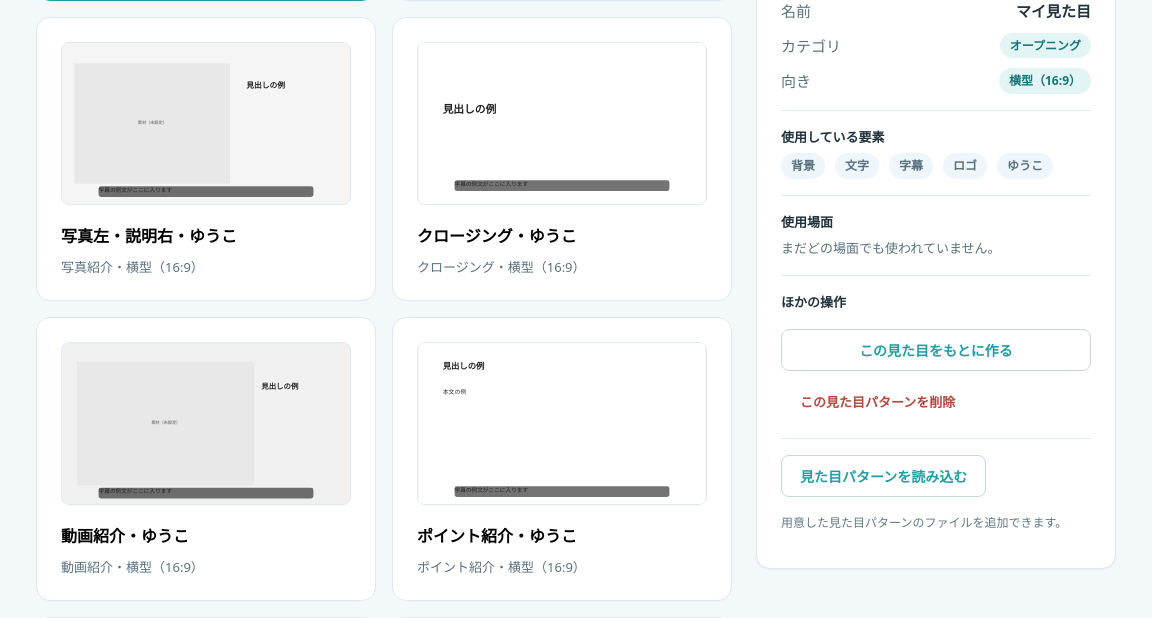
it: LooksScreen busy 表示（#410 sub4 レビュー） › もとに作っている間は「作成中…」＋ボタン無効（連打不可）
This screenshot has width=1152, height=618.
(page scrolled)
Click the button "この見た目をもとに作る": (936, 350) 781,329 -> 1091,371
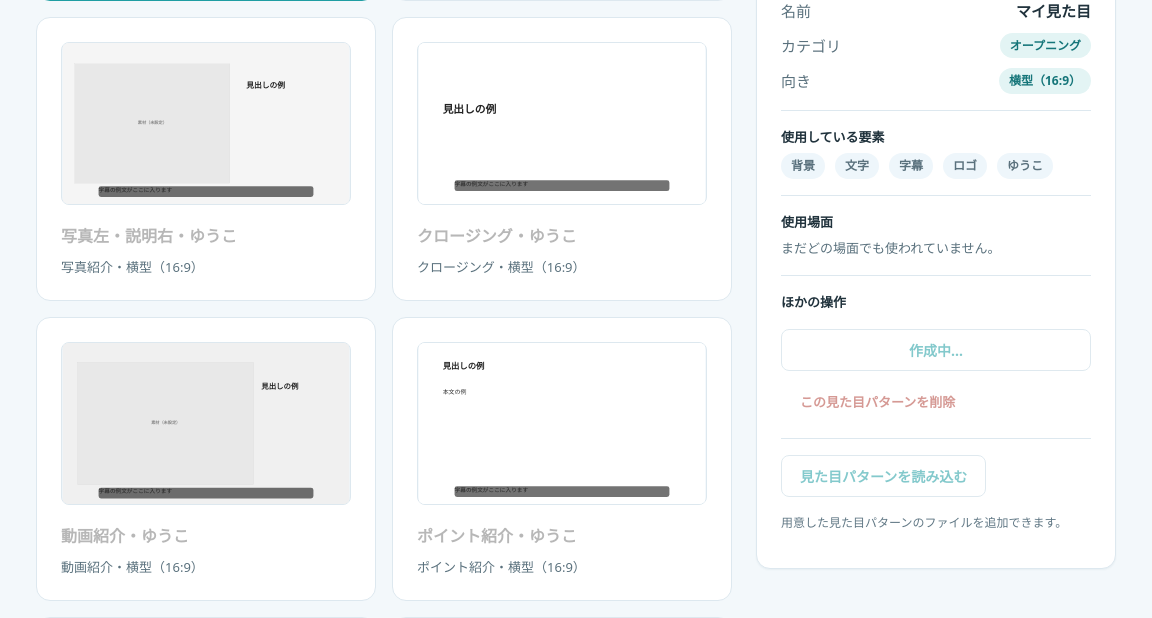
Now the button "作成中…" is disabled, box 781,329 -> 1091,371
